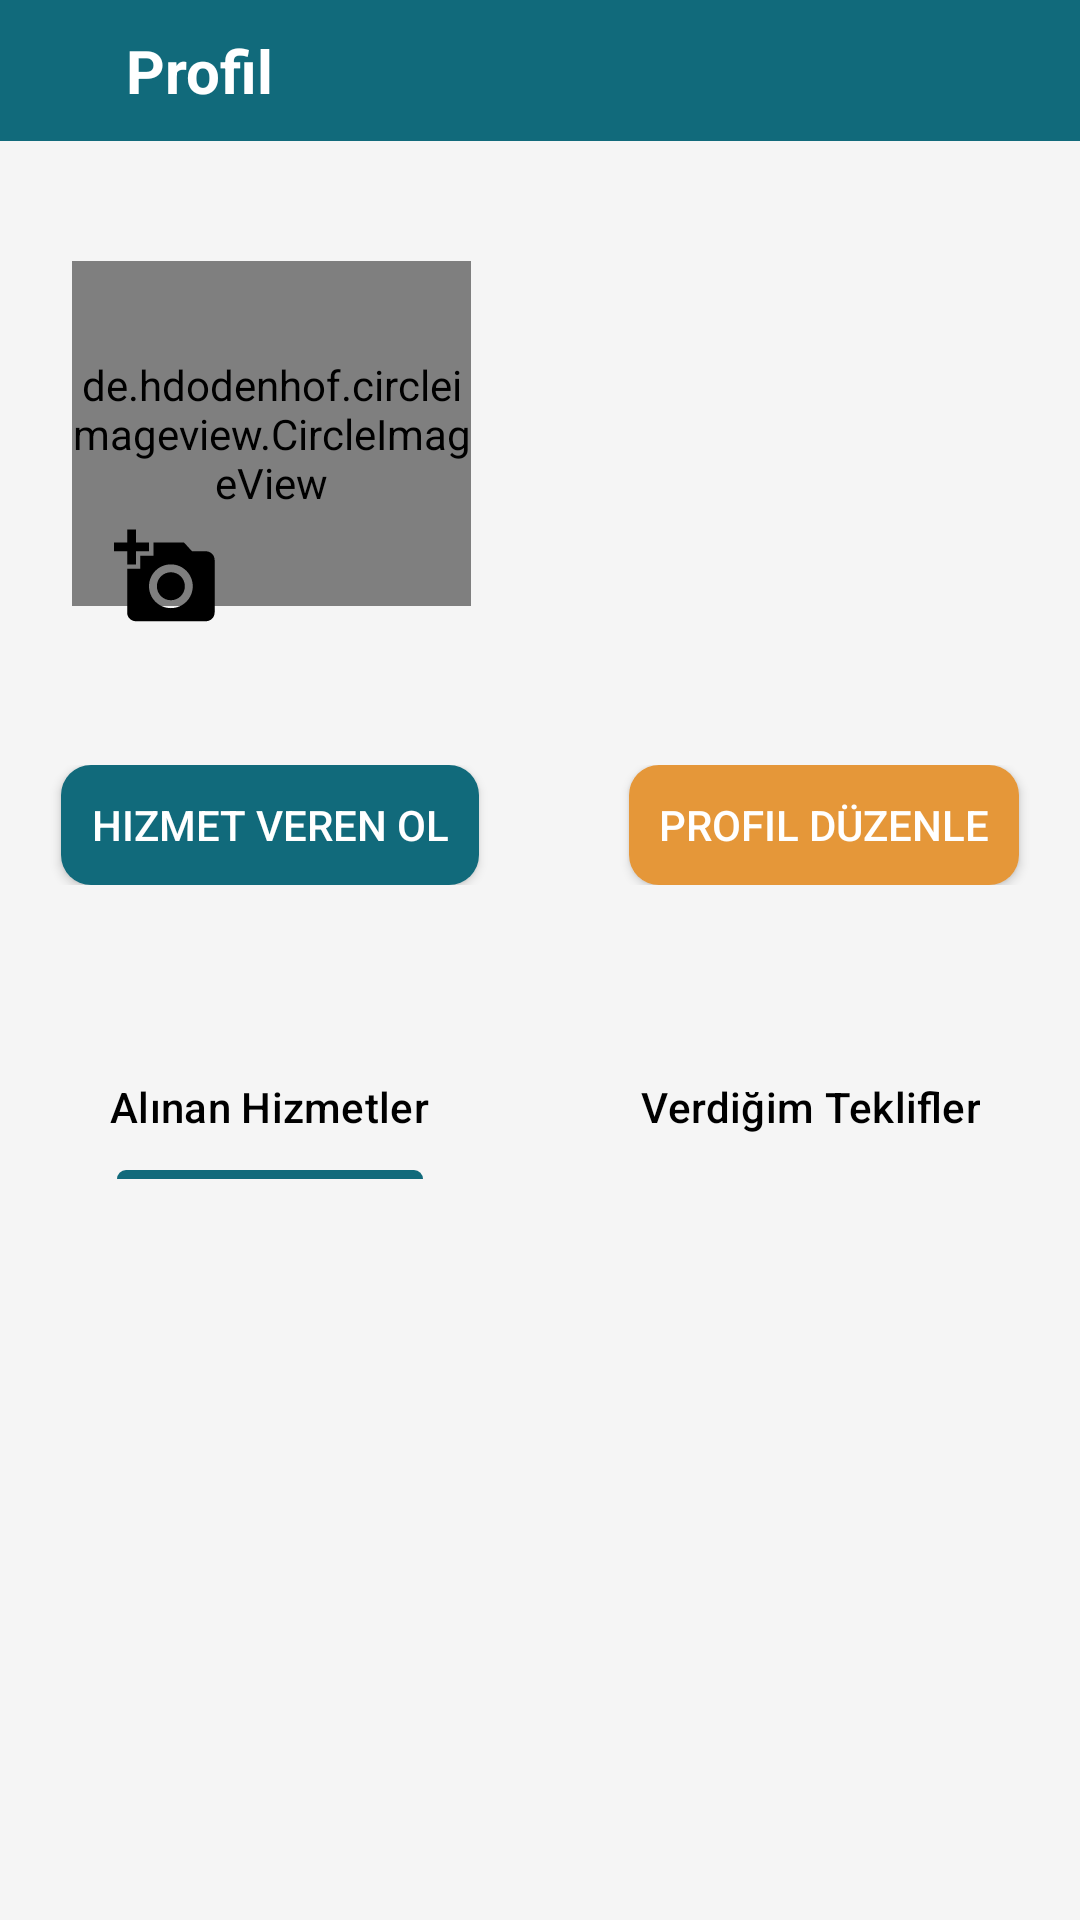

Where to tap for icons on this 1080×1920 app screen, as point (x, y):
add photo: point (166, 579)
